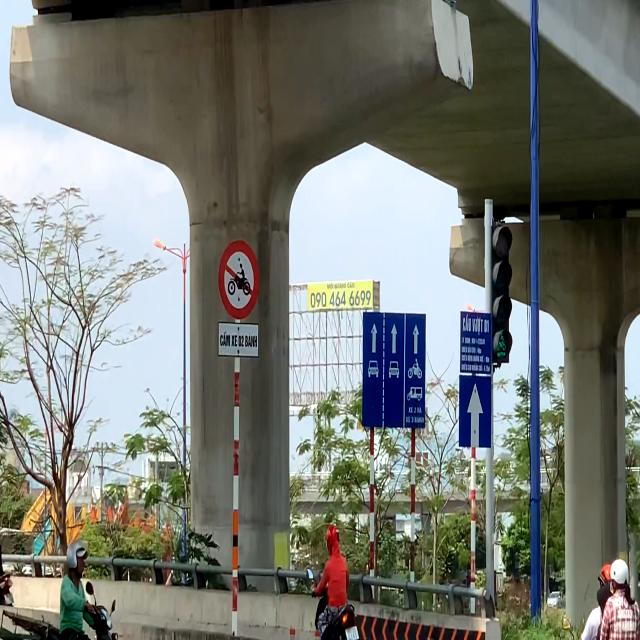P.104: (218, 238, 259, 320)
R.407a: (460, 374, 491, 448)
